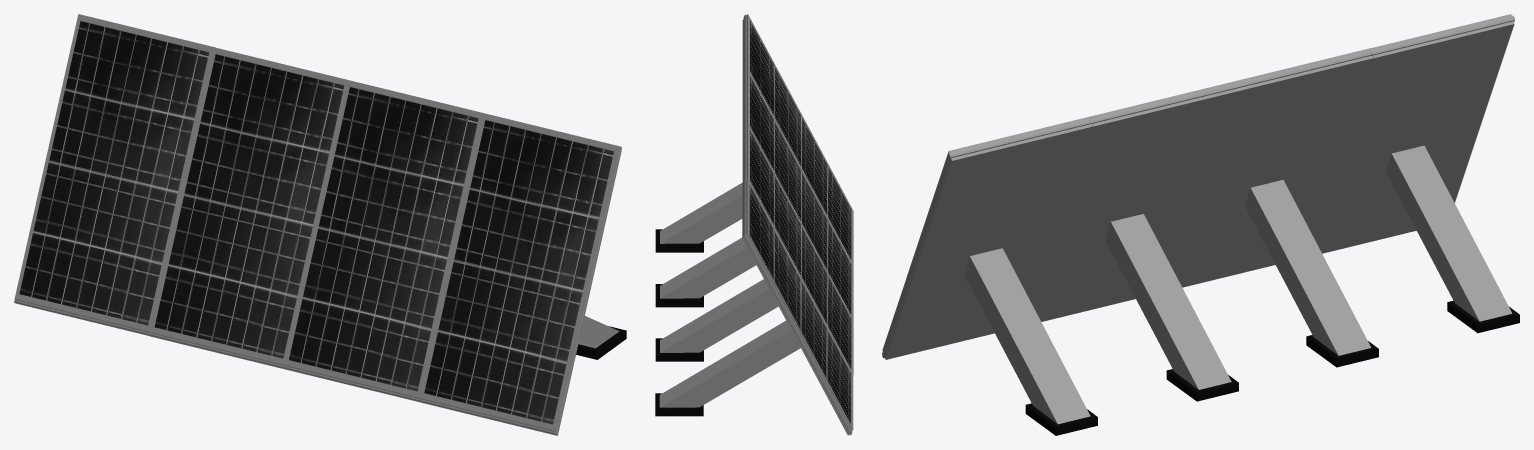
Rendered from groundPanelM60.glb.
3 views of the same model, side by side, from view 1: azimuth 30°, elevation 25°; view 2: azimuth 150°, elevation 25°; view 3: azimuth 270°, elevation 25° (orthographic). The views are drawn at different scales.
Parts seen in each view (by area): view 1: objSolar.004, objSolar.003, objSolar.001, objSolar.002; view 2: objSolar.001, objSolar.002, objSolar.003, objSolar.004; view 3: objSolar.004, objSolar.001, objSolar.002, objSolar.003.
Boxes of the visible parts, left/top/right/bottom form: objSolar.004: left=419, top=113, right=626, bottom=435; objSolar.003: left=283, top=80, right=482, bottom=402; objSolar.001: left=14, top=14, right=215, bottom=335; objSolar.002: left=149, top=47, right=347, bottom=369; objSolar.001: left=655, top=178, right=853, bottom=435; objSolar.002: left=655, top=123, right=853, bottom=374; objSolar.003: left=655, top=69, right=853, bottom=320; objSolar.004: left=655, top=14, right=853, bottom=265; objSolar.004: left=882, top=116, right=1097, bottom=435; objSolar.001: left=1314, top=14, right=1519, bottom=333; objSolar.002: left=1173, top=48, right=1378, bottom=367; objSolar.003: left=1033, top=82, right=1238, bottom=401.
Bounding box in the file's own units: 3.08 × 1.7 × 3.85.
3 materials, 1 textured.
